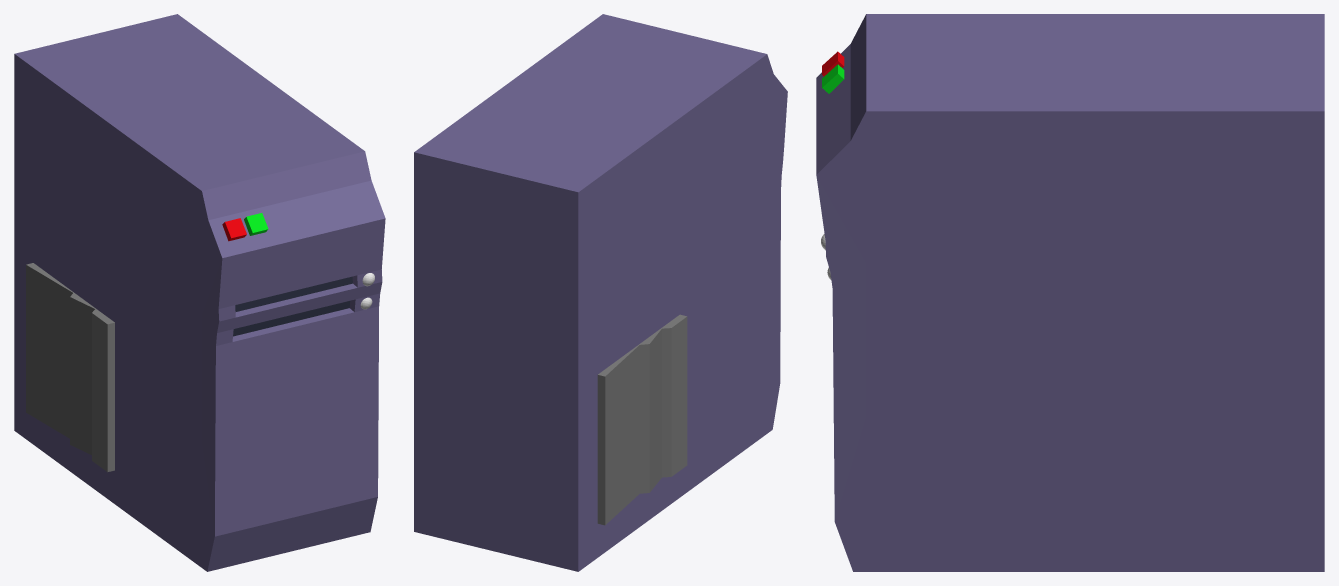
File: BasicComputer1.fbx
3 views of the same model, side by side, from view 1: azimuth 30°, elevation 25°; view 2: azimuth 150°, elevation 25°; view 3: azimuth 270°, elevation 25° (orthographic). The views are drawn at different scales.
Visible parts, largest first — view 1: MainCase, SidePanelExtra; view 2: MainCase, SidePanelExtra; view 3: MainCase.
Boxes of the visible parts, x1,y1,x2,y2 form: MainCase: (14,14,385,571); SidePanelExtra: (26,263,114,472); MainCase: (414,14,787,571); SidePanelExtra: (597,314,687,525); MainCase: (816,14,1324,571).
Bounding box in the file's own units: 200 × 200 × 95.22.
